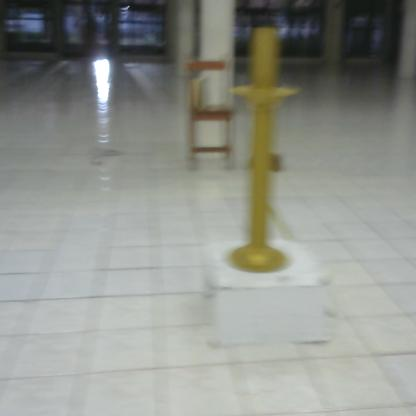pole: (227, 24, 307, 277)
